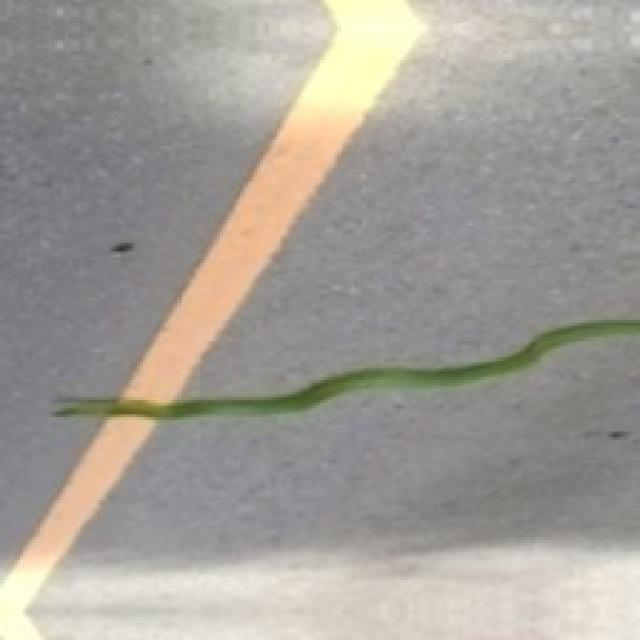red-tailed green ratsnake: (54, 320, 637, 417)
